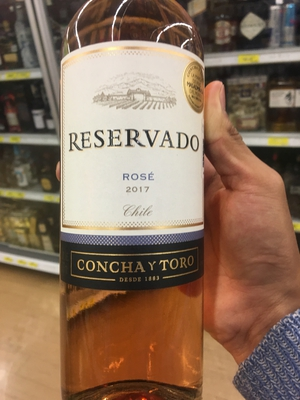reservado rose: (57, 1, 208, 400)
